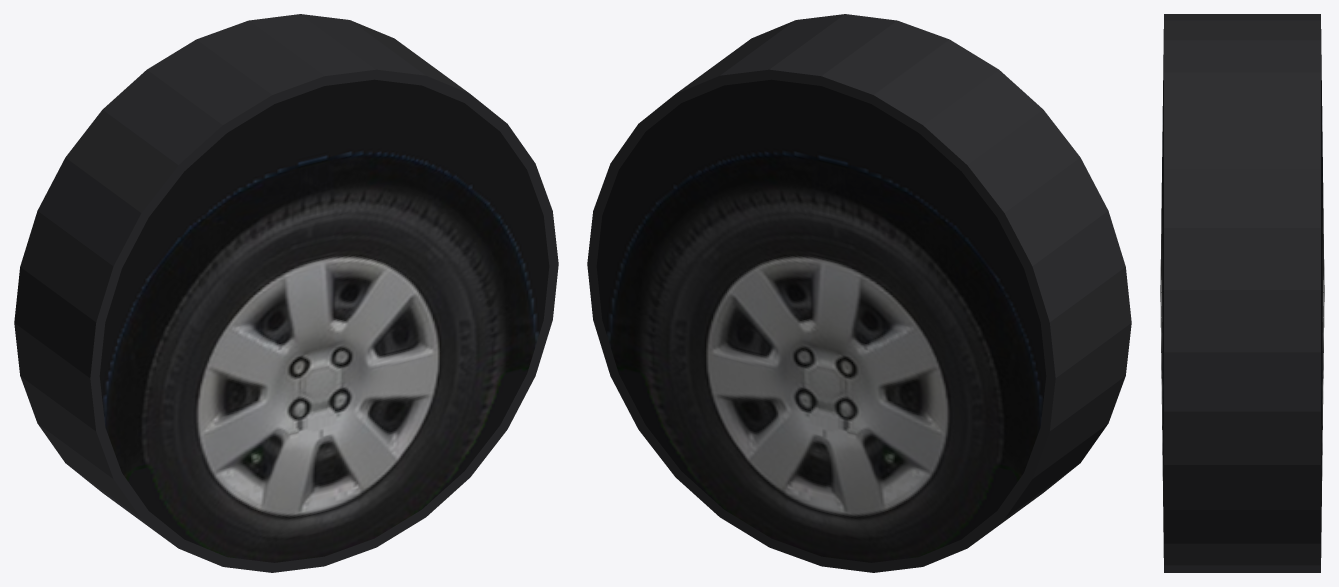
File: wheel.glb
3 renders of one model, left to right at view 1: azimuth 30°, elevation 25°; view 2: azimuth 150°, elevation 25°; view 3: azimuth 270°, elevation 25°, orthographic. The views are drawn at different scales.
Visible parts, largest first — view 1: Rim, Rubber; view 2: Rim, Rubber; view 3: Rubber, Rim.
Part boxes in pixels (x1,y1,x2,y2): Rim: (99,79,549,562); Rubber: (14,14,558,572); Rim: (596,79,1046,562); Rubber: (587,14,1131,572); Rubber: (1164,14,1320,572); Rim: (1160,29,1324,557).
Size of the model in its own units: 0.64 by 0.64 by 0.188.
2 materials, 1 textured.
